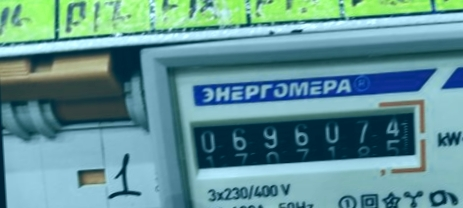0: (194, 127, 214, 153), (321, 117, 338, 144)
4: (381, 113, 399, 138)
5: (383, 137, 399, 156)
6: (227, 123, 247, 151), (289, 121, 307, 146)
7: (350, 116, 369, 143)
9: (257, 123, 277, 149)
screen: (175, 93, 431, 188)
